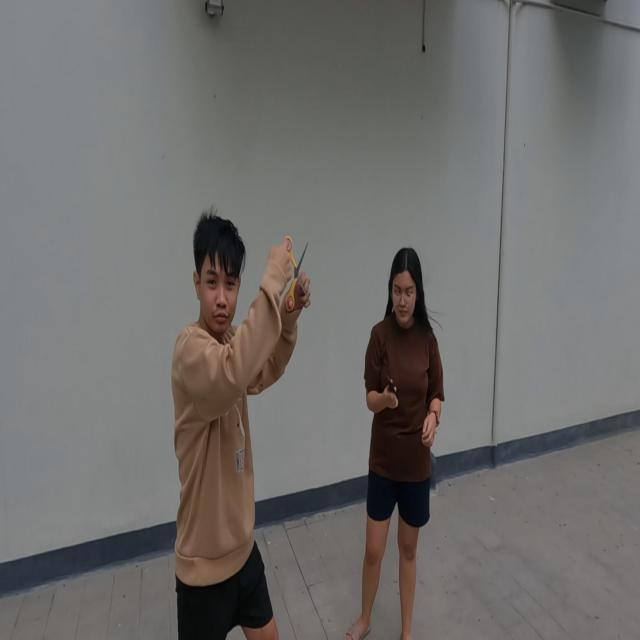scissor: (284, 237, 310, 312)
